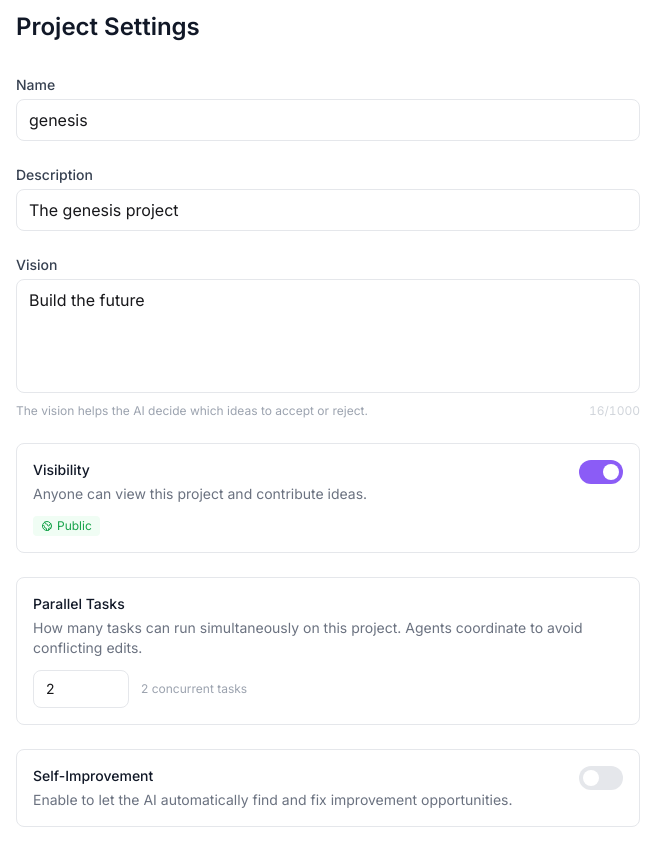
Scenario: ProjectSettingsPage › visibility toggle › toggles from public to private on click
Expected: the text "Public" is shown, [33,516,100,536]
Note: The visibility toggle is the button inside the Visibility section
Click the button without text in the row of "Visibility" at (601, 472), box [579,460,623,484]
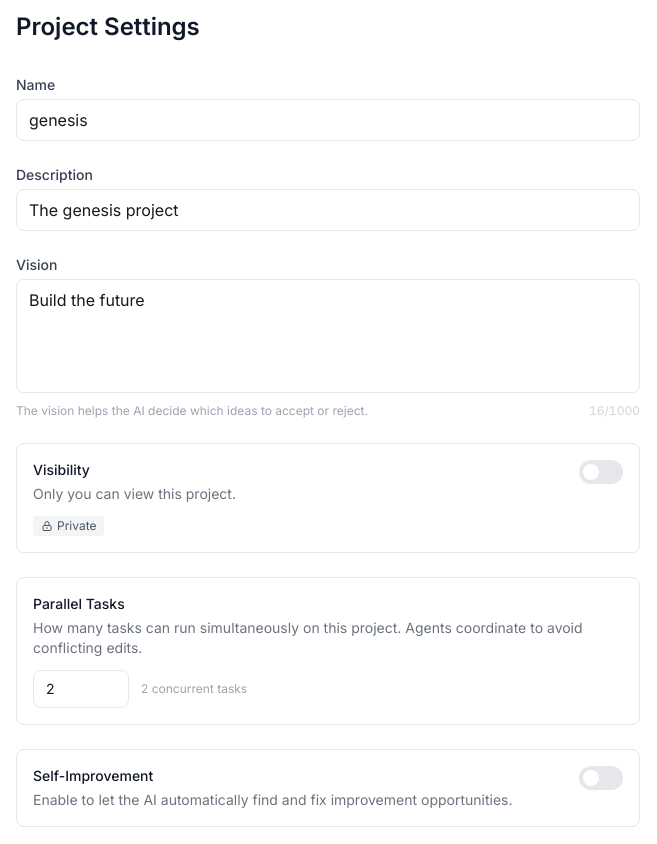
Expected: the text "Private" is shown, [33,516,104,536]
Expected: the text "Only you can view this project." is shown, [33,484,236,504]
